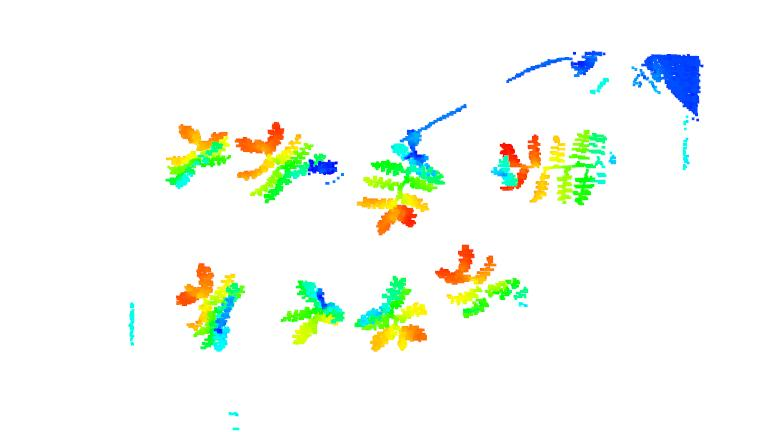chickpea: (357, 129, 449, 234), (493, 130, 612, 208), (234, 121, 340, 205), (434, 245, 528, 318), (175, 262, 248, 351), (354, 276, 429, 353), (162, 121, 231, 192), (279, 280, 347, 347)
